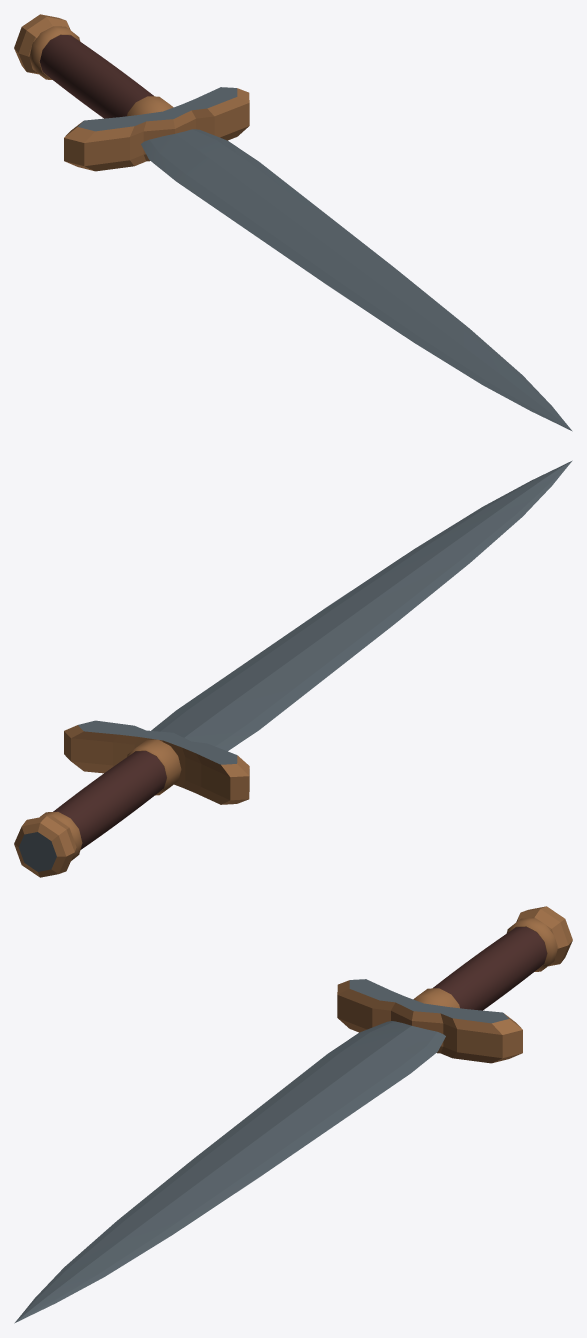
Rendered from explorer-sword-low.glb.
The picture shows the model from 3 angles, top to bottom: view 1: azimuth 30°, elevation 25°; view 2: azimuth 150°, elevation 25°; view 3: azimuth 330°, elevation 25°; orthographic projection.
Visible parts, largest first — view 1: explorer_sword_grip_origin; view 2: explorer_sword_grip_origin; view 3: explorer_sword_grip_origin.
Boxes of the visible parts, x1=… form: explorer_sword_grip_origin: x1=14, y1=14, x2=572, y2=431; explorer_sword_grip_origin: x1=14, y1=460, x2=572, y2=877; explorer_sword_grip_origin: x1=14, y1=906, x2=572, y2=1323.
Size of the model in its own units: 0.184 by 0.056 by 0.92.
